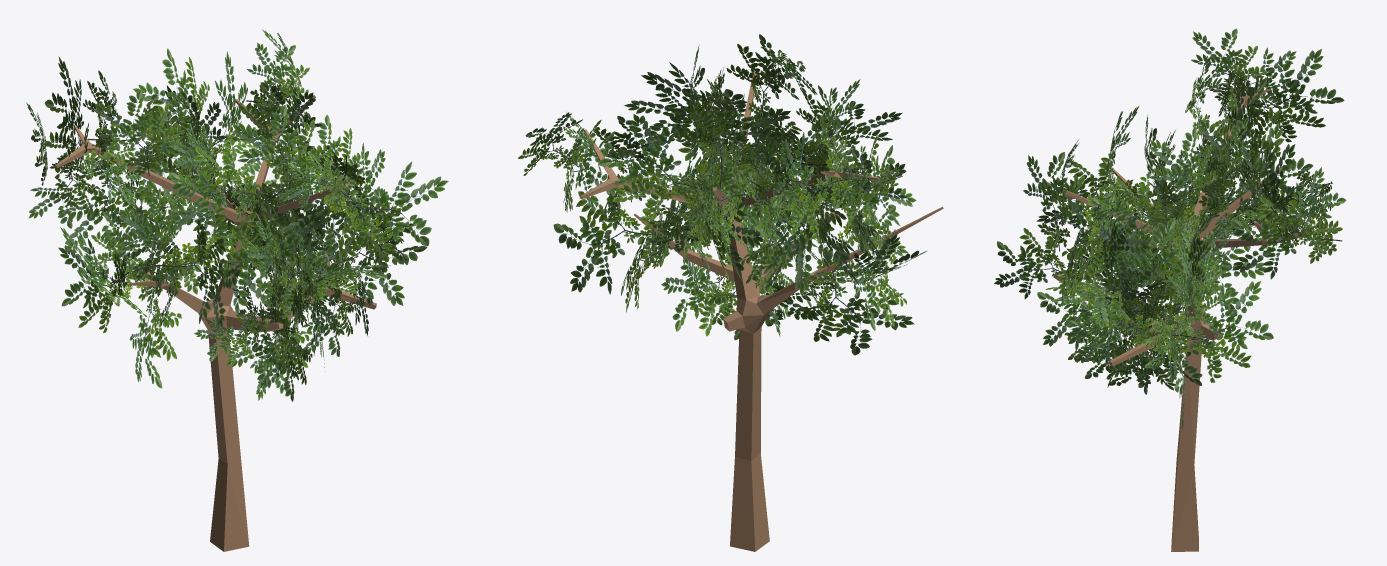
The model's file is Foliage.fbx.
3 renders of one model, left to right at view 1: azimuth 30°, elevation 25°; view 2: azimuth 150°, elevation 25°; view 3: azimuth 270°, elevation 25°, orthographic. The views are drawn at different scales.
Parts seen in each view (by area): view 1: Tree_01; view 2: Tree_01; view 3: Tree_01.
Part boxes in pixels (x1,y1,x2,y2): Tree_01: (26,29,448,551); Tree_01: (518,34,943,551); Tree_01: (994,28,1346,551).
Size of the model in its own units: 4130 by 5071 by 3815.
